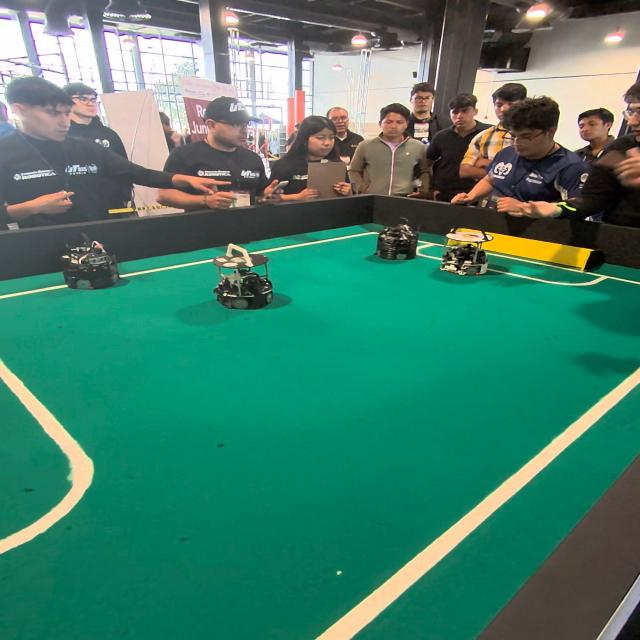Robot: (213, 246, 279, 316), (60, 231, 123, 291), (438, 224, 490, 281), (374, 218, 419, 265)
